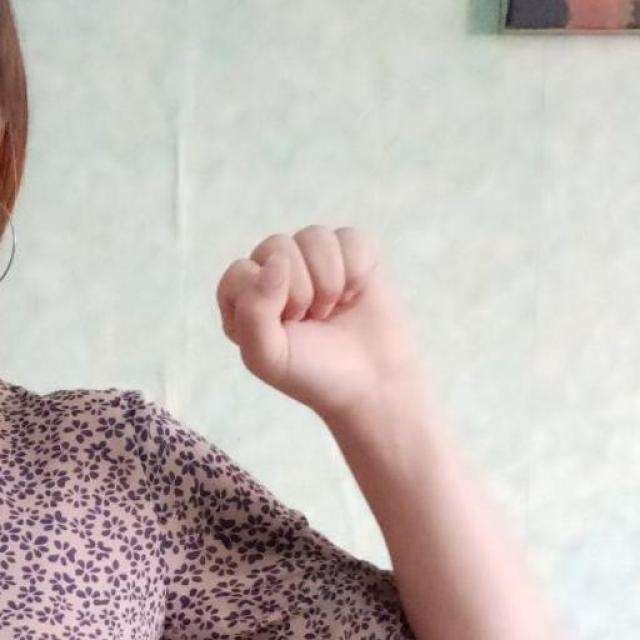hand: (215, 221, 424, 420)
